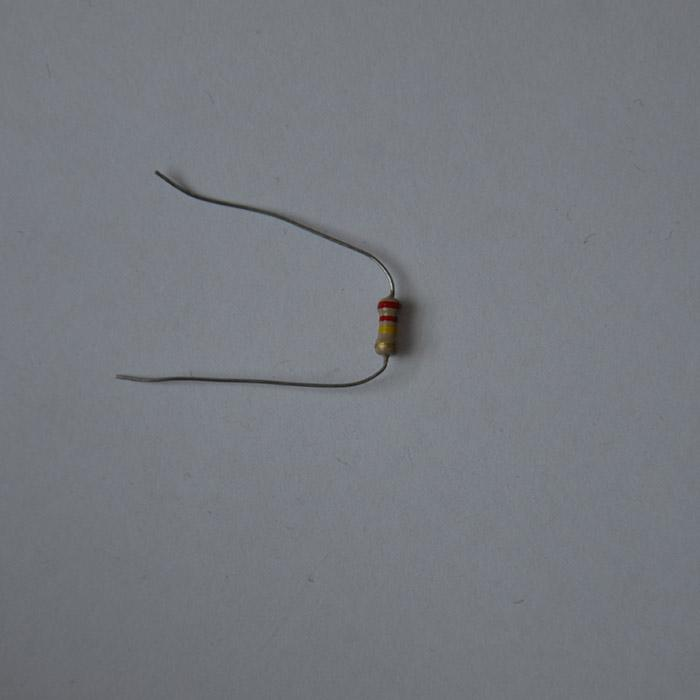resistor: (374, 295, 401, 355)
